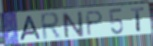5: (108, 8, 125, 36)
A: (19, 15, 43, 42)
N: (61, 11, 86, 40)
P: (86, 10, 105, 37)
R: (39, 11, 63, 43)
T: (129, 7, 146, 33)
